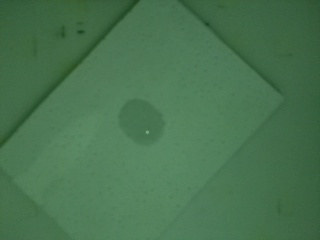Water_detected: (126, 103, 165, 140)
